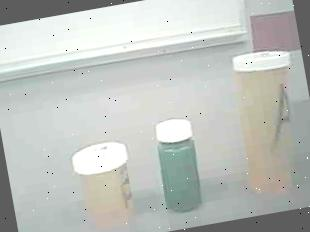Bottle A: (219, 41, 310, 204)
Bottle B: (64, 131, 150, 232)
Bottle C: (150, 108, 215, 214)
